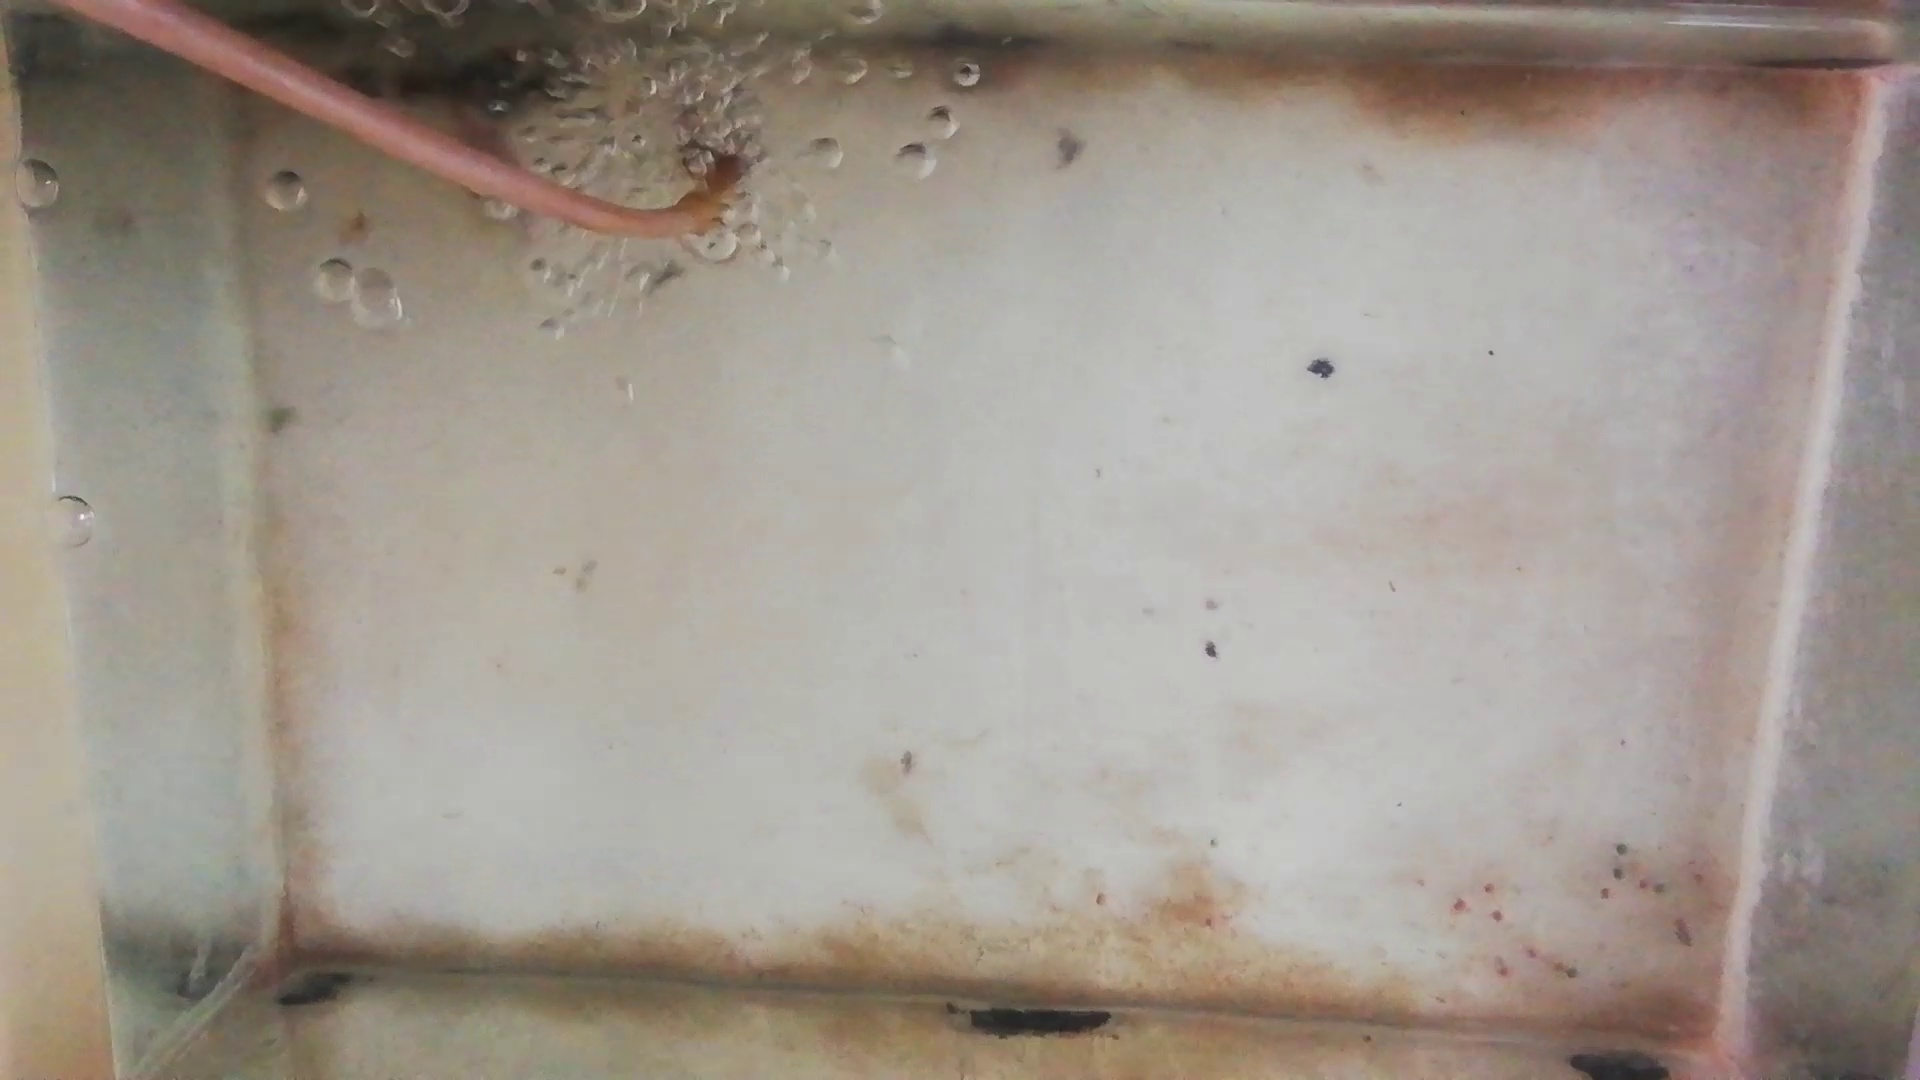fish: (378, 40, 584, 98), (458, 103, 520, 162)
